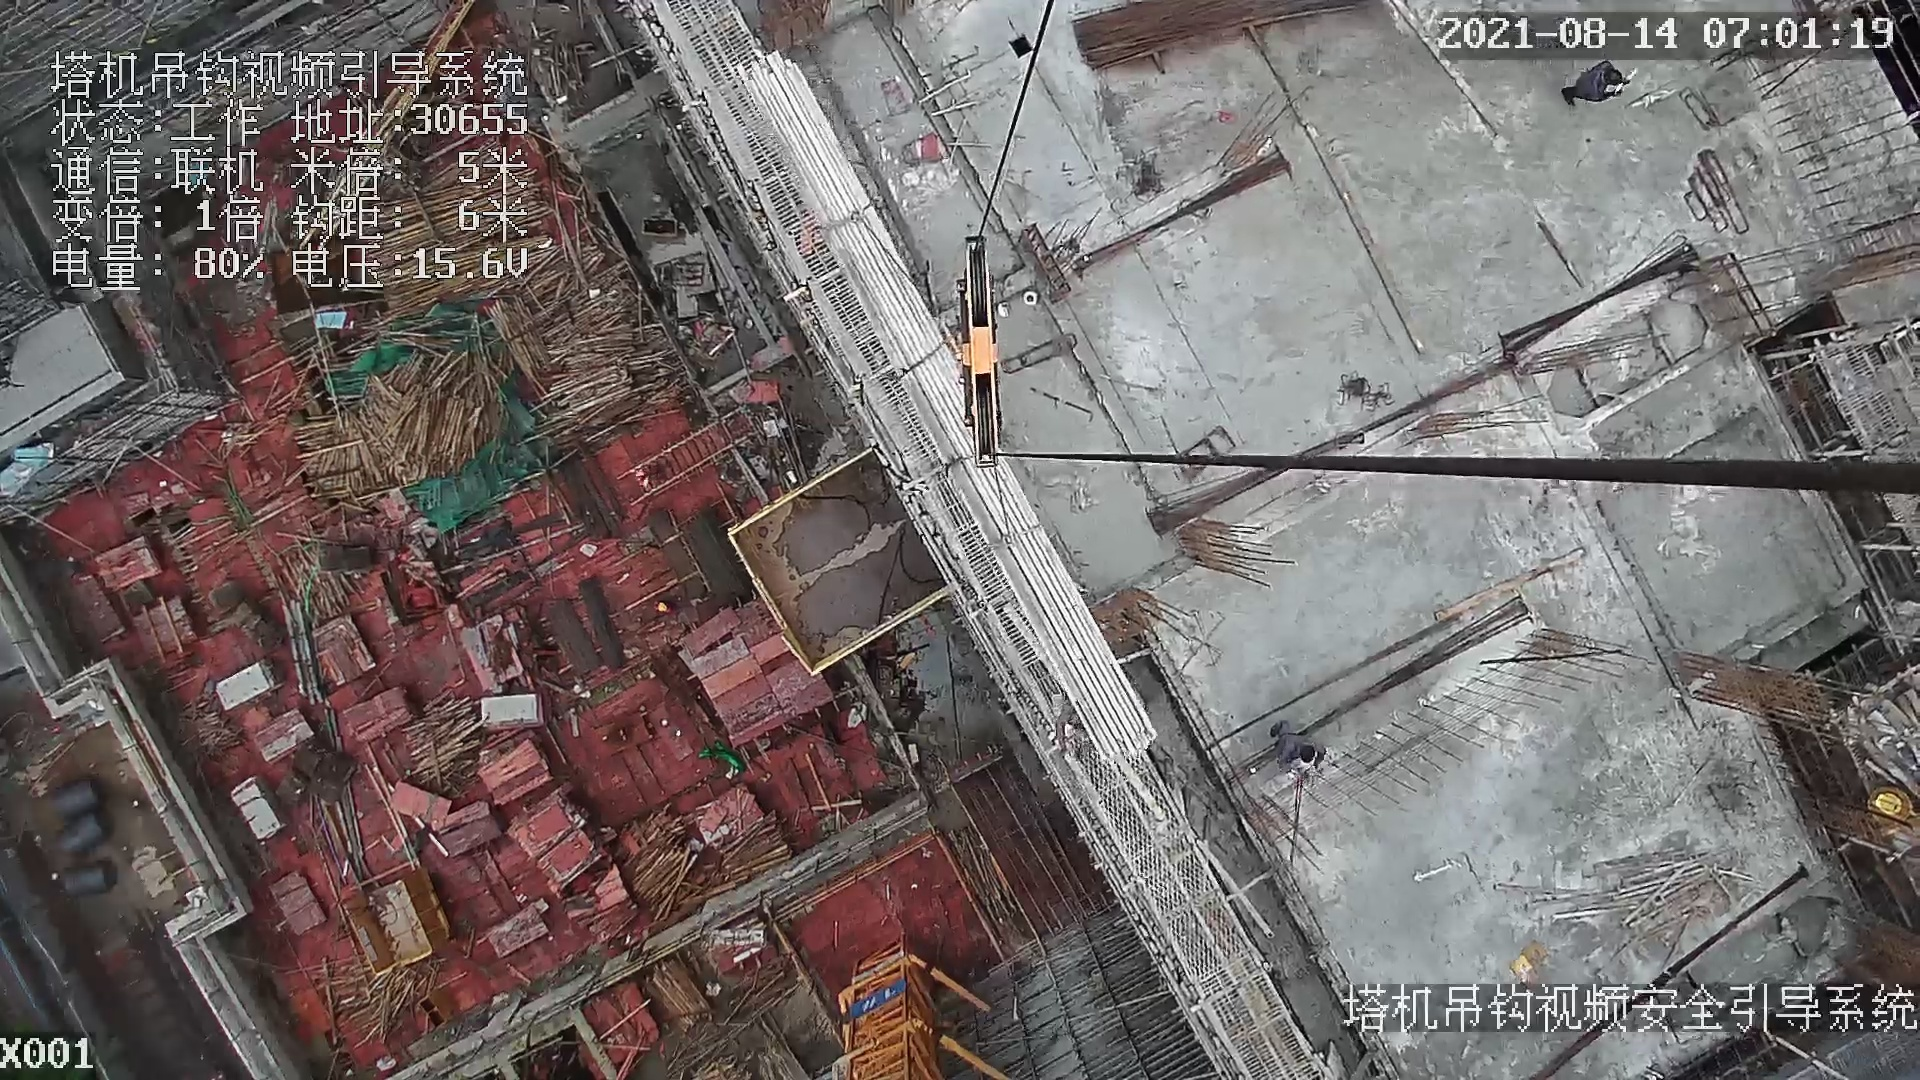hook: (938, 230, 1009, 471)
person: (1272, 719, 1336, 783)
